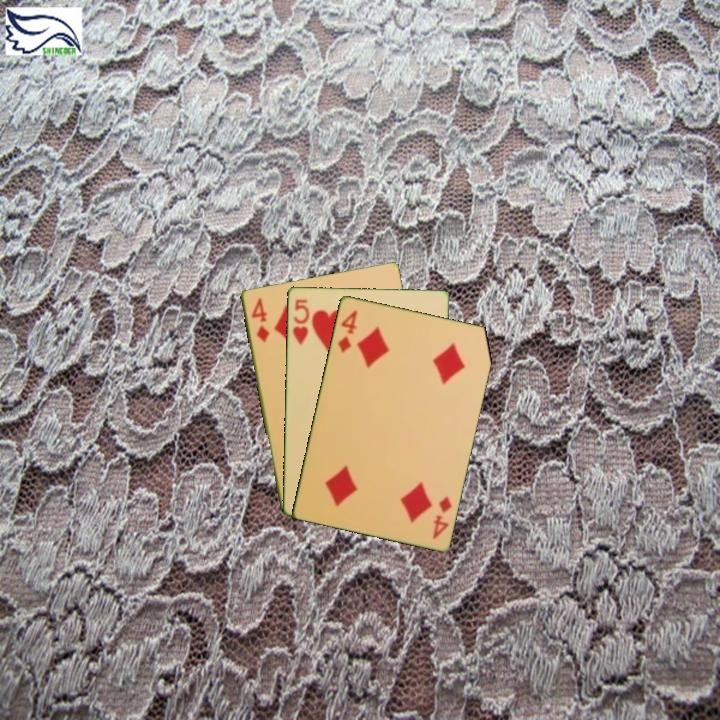4d: (247, 294, 272, 346), (334, 306, 360, 355), (429, 492, 454, 542)
5h: (289, 295, 312, 348)
